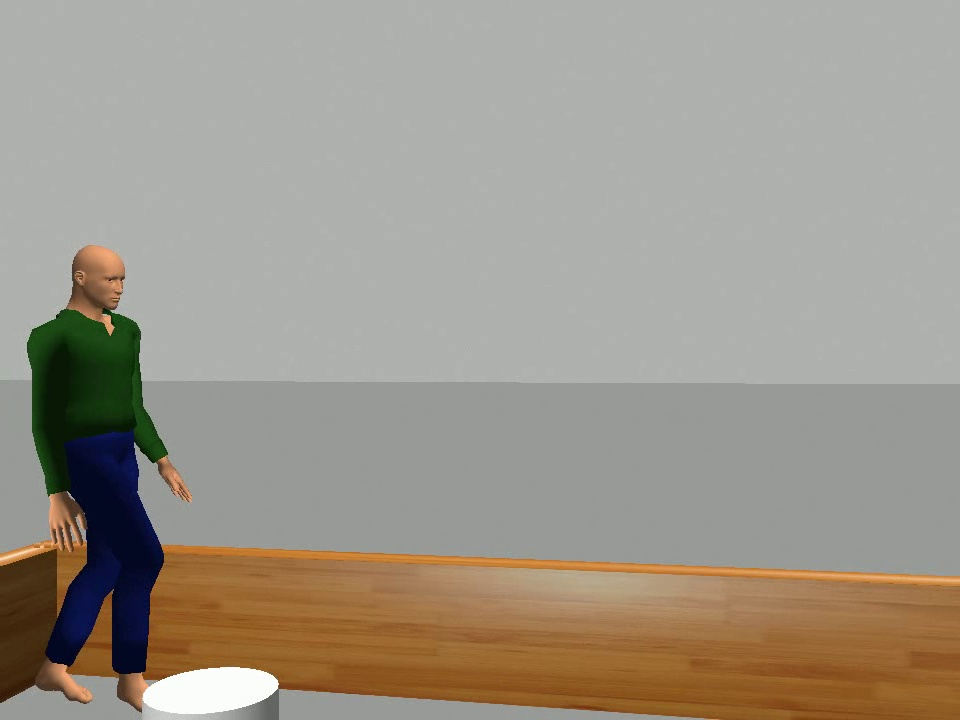person: (21, 242, 195, 714)
